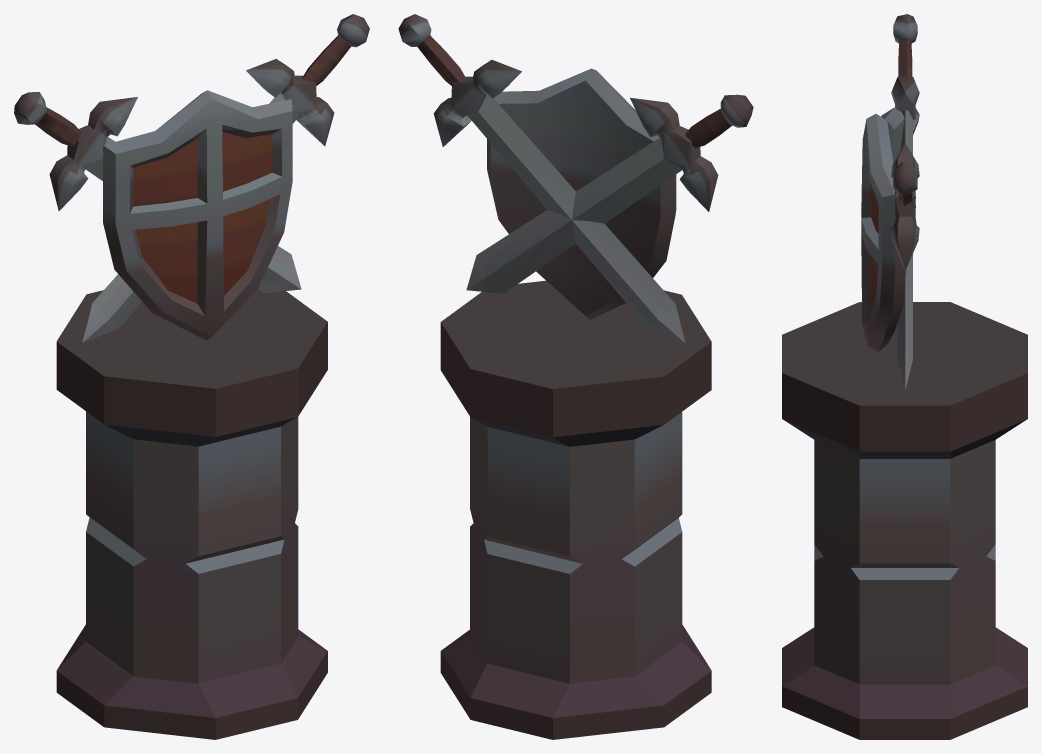
The model's file is statue-knight.glb.
The picture shows the model from 3 angles, left to right: view 1: azimuth 30°, elevation 25°; view 2: azimuth 150°, elevation 25°; view 3: azimuth 270°, elevation 25°; orthographic projection. The views are drawn at different scales.
Parts seen in each view (by area): view 1: statue-pedestal, statue-trophy; view 2: statue-pedestal, statue-trophy; view 3: statue-pedestal, statue-trophy.
Part boxes in pixels (x1,y1,x2,y2): statue-pedestal: (56,289,327,739); statue-trophy: (14,14,369,342); statue-pedestal: (440,280,711,739); statue-trophy: (398,14,753,343); statue-pedestal: (782,302,1027,739); statue-trophy: (861,14,919,389).
Size of the model in its own units: 1.9 by 3.22 by 1.2.
1 material, 1 textured.
